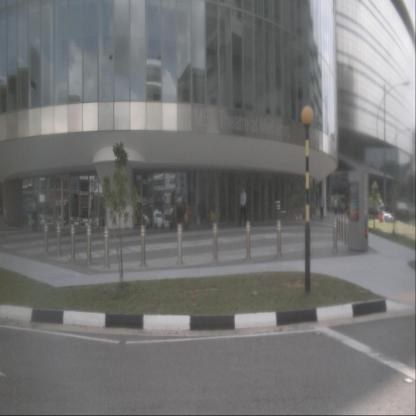cone: (380, 212, 382, 222)
